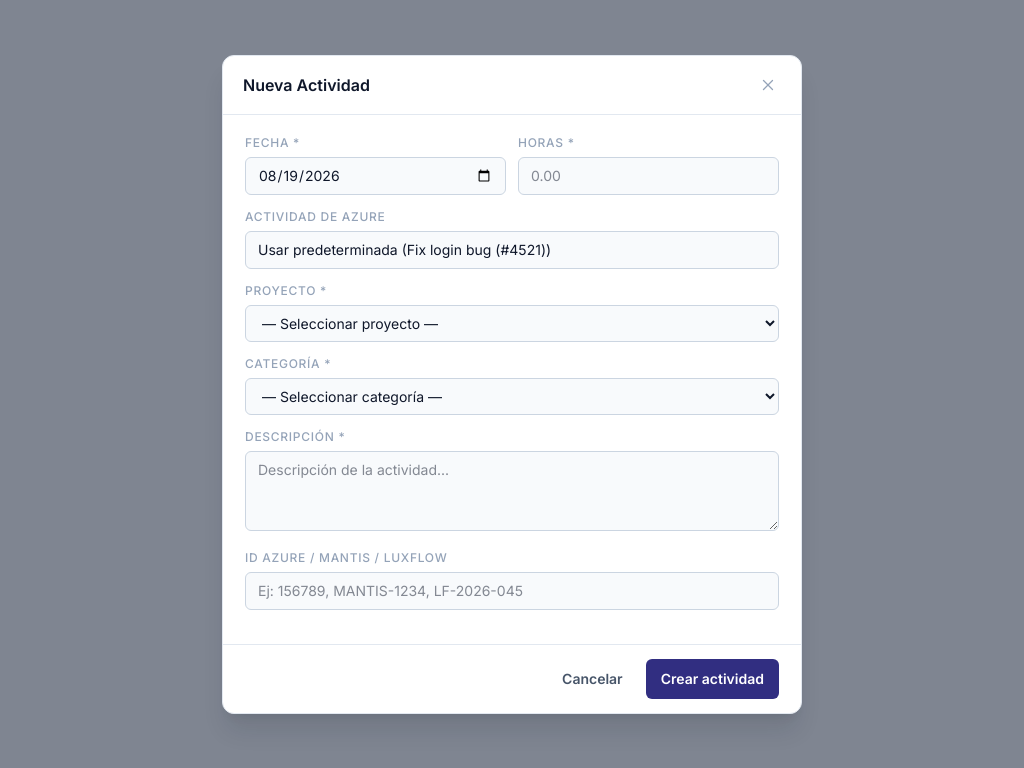
Test: NewActivityModal configurable validations › blocks hours over 8 client-side when max_hours_per_entry is enabled
Type "9" into the number field with placeholder "0.00" at (648, 176), box [518,156,779,194]
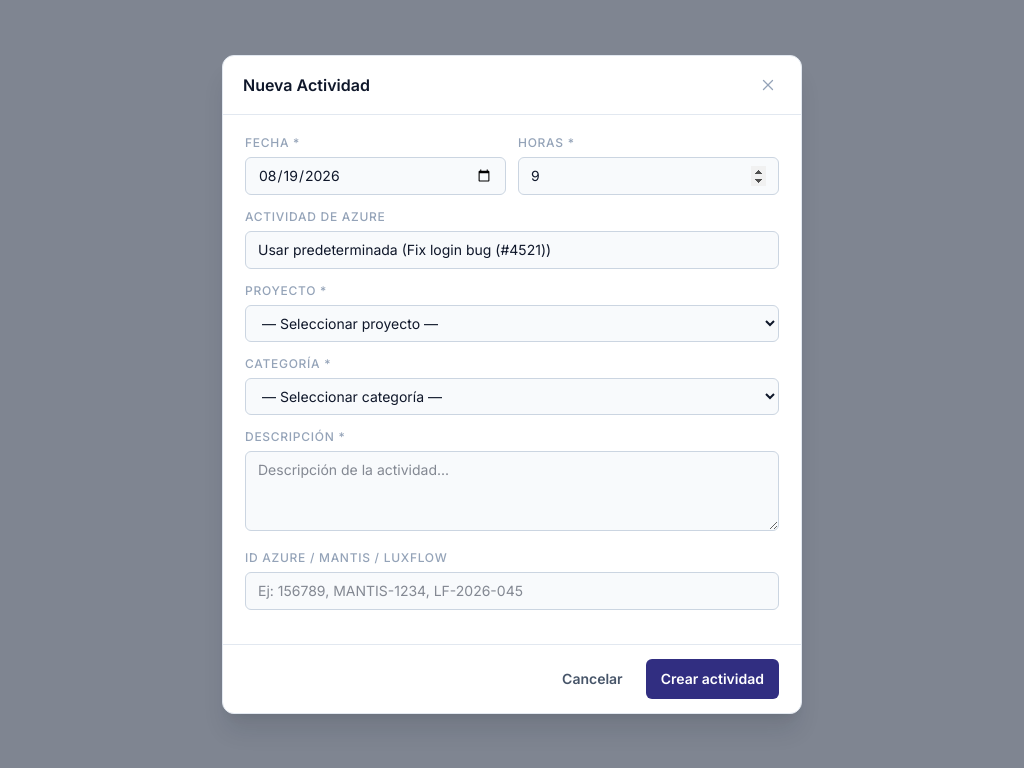
Select "Project A" in the dropdown named "Proyecto *" at (512, 323), box [245,304,779,342]
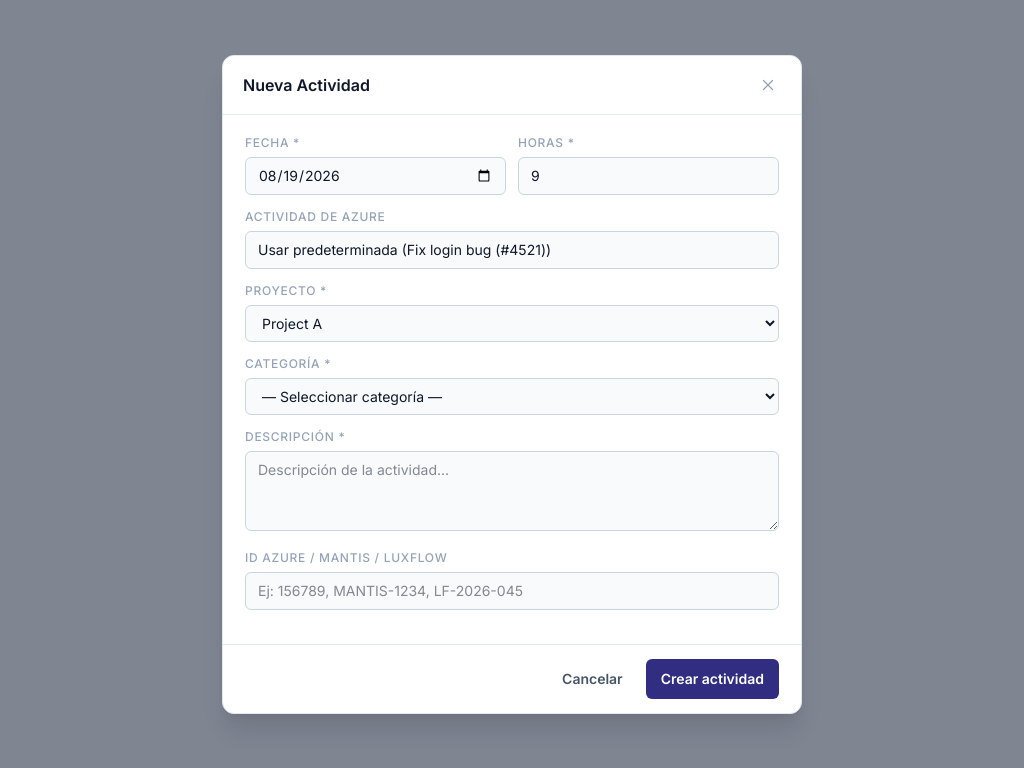
Select "Development" in the dropdown named "Categoría *" at (512, 396), box [245,378,779,414]
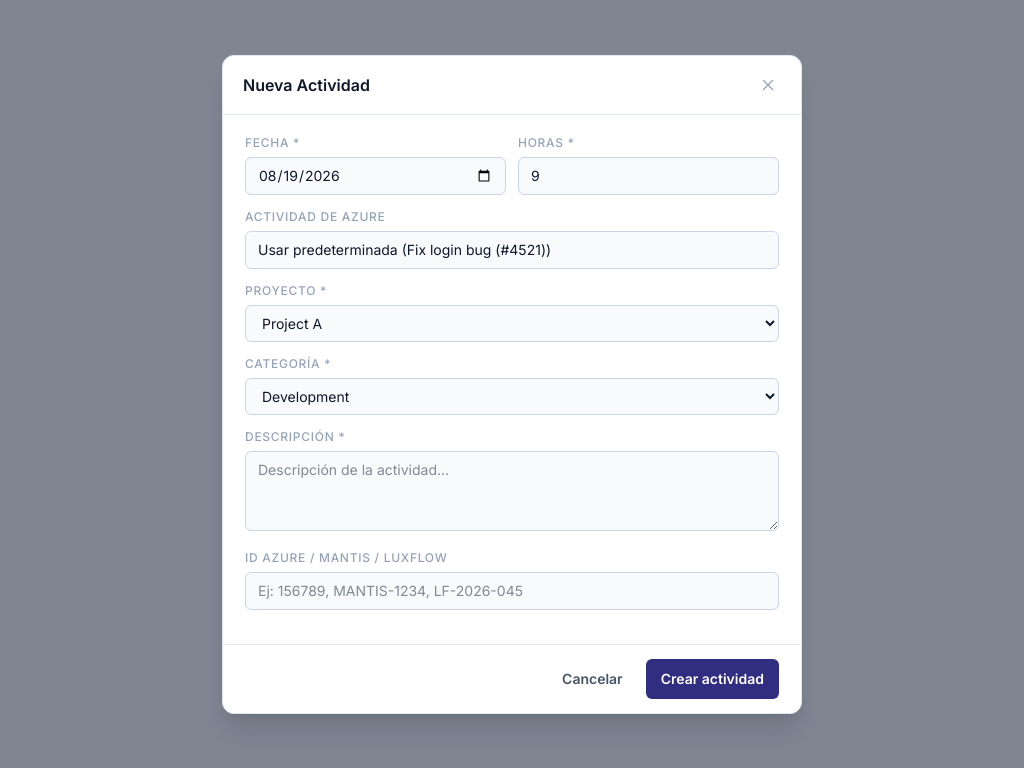
Type "Trabajo de prueba" into the text box with placeholder "Descripción de la actividad..." at (512, 490), box [245,450,779,530]
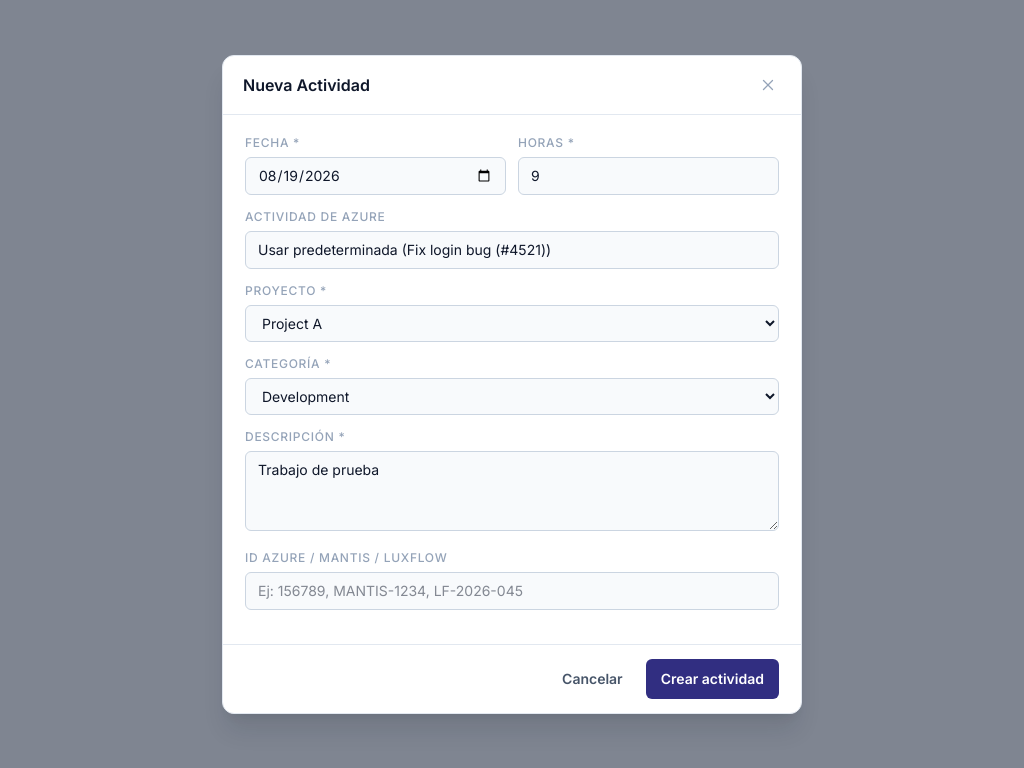
Click the button "Crear actividad" at (712, 678), box [646,658,779,698]
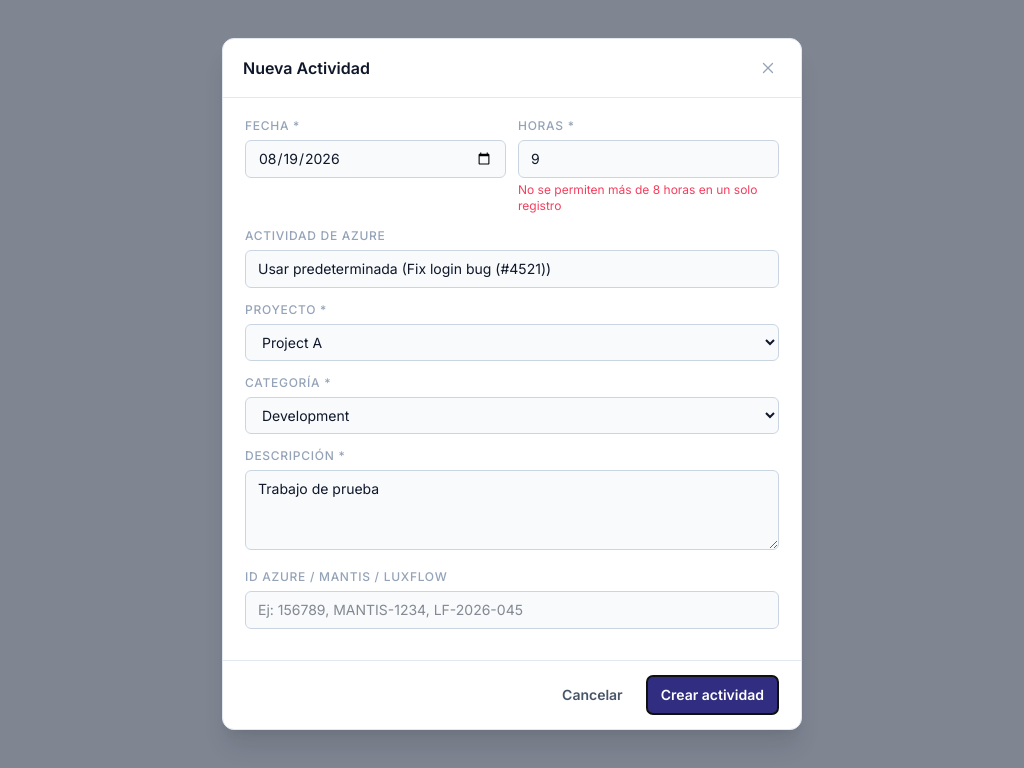
Expected: the text "No se permiten más de 8 horas en un solo registro" is shown, [518,182,779,214]
